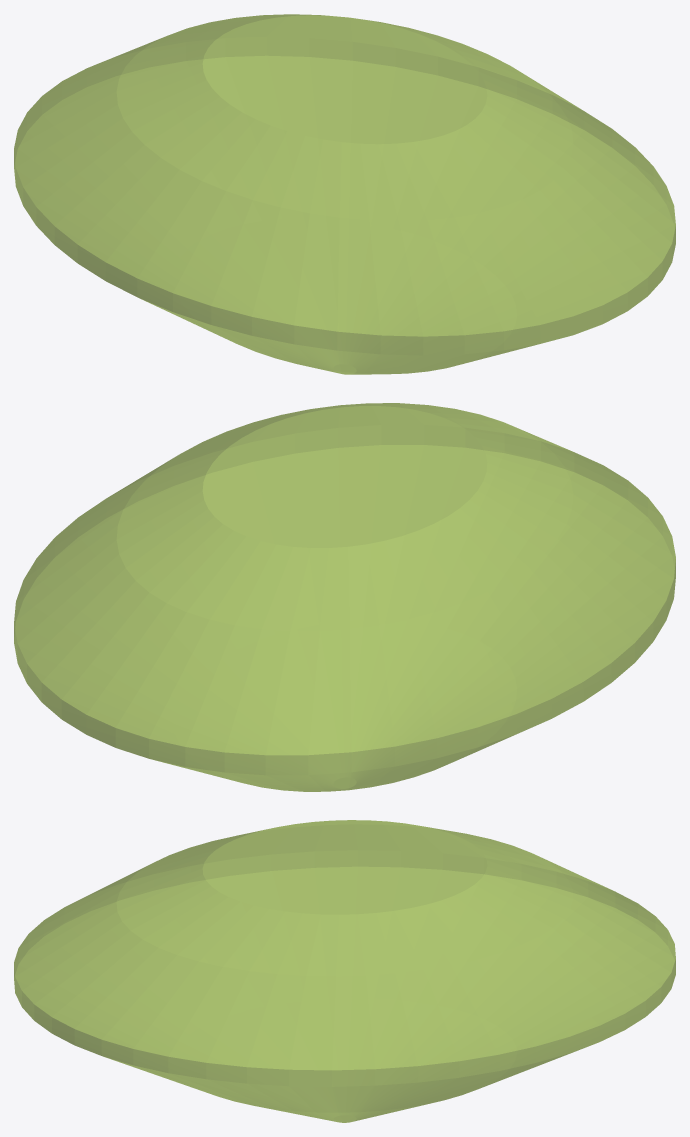
Rendered from stone-peridot.glb.
3 renders of one model, top to bottom at view 1: azimuth 30°, elevation 25°; view 2: azimuth 150°, elevation 25°; view 3: azimuth 270°, elevation 25°, orthographic. The views are drawn at different scales.
Parts seen in each view (by area): view 1: Sculpture; view 2: Sculpture; view 3: Sculpture.
Boxes of the visible parts, x1,y1,x2,y2 form: Sculpture: (14, 14, 675, 374); Sculpture: (14, 403, 675, 791); Sculpture: (14, 820, 675, 1122).
Bounding box in the file's own units: 2.01 × 1.07 × 2.55.
